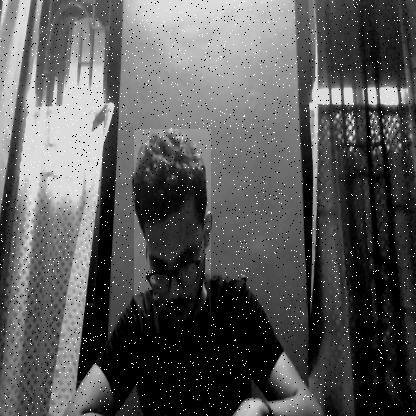Distracted: (134, 129, 211, 333)
